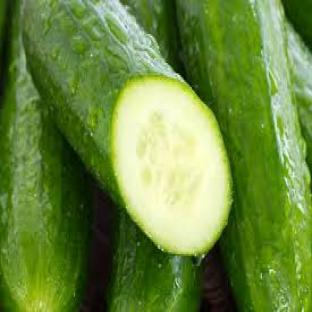Cucumber: (0, 0, 90, 311), (109, 210, 201, 311), (288, 24, 311, 170)
